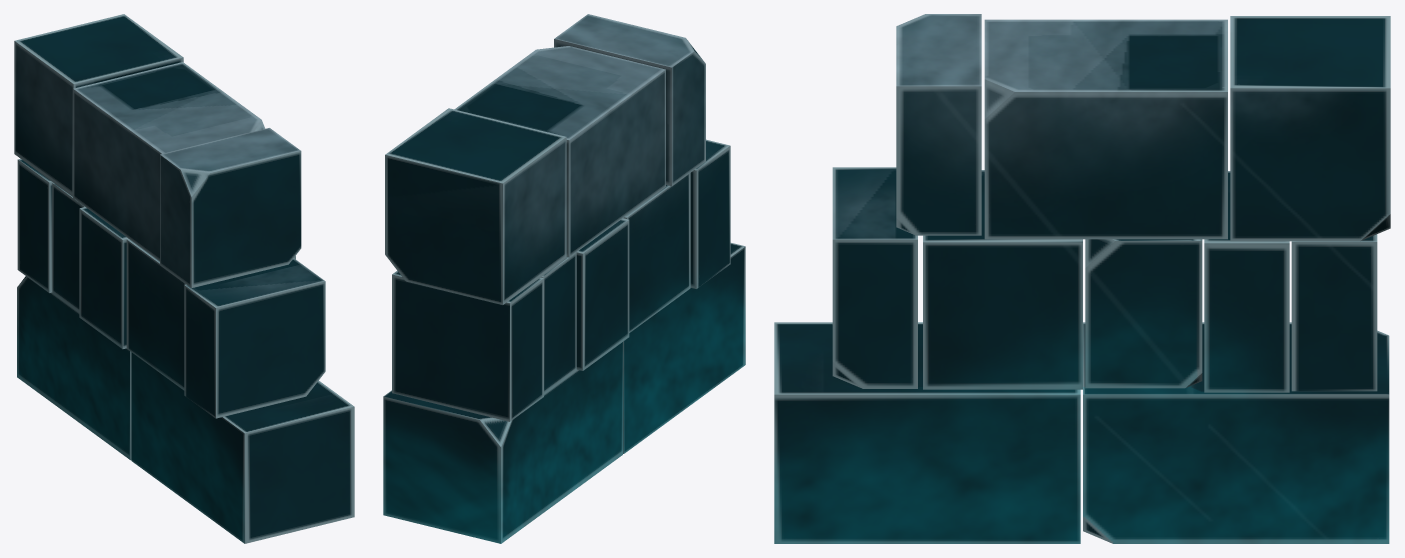
The model's file is tijolos 1.fbx.
The picture shows the model from 3 angles, left to right: view 1: azimuth 30°, elevation 25°; view 2: azimuth 150°, elevation 25°; view 3: azimuth 270°, elevation 25°; orthographic projection. The views are drawn at different scales.
Parts seen in each view (by area): view 1: tijolos; view 2: tijolos; view 3: tijolos.
Part boxes in pixels (x1,y1,x2,y2): tijolos: [14, 14, 354, 543]; tijolos: [383, 14, 745, 543]; tijolos: [774, 14, 1390, 543].
Bounding box in the file's own units: 39.03 × 106 × 131.
Materials: 1 (1 with a texture image).
